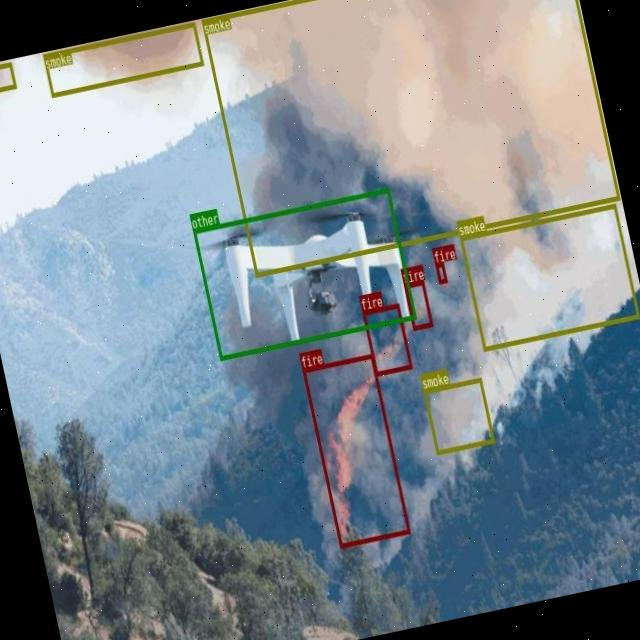fire: (302, 354, 409, 548), (362, 302, 412, 374), (403, 279, 433, 330), (435, 262, 447, 284)
smoke: (201, 0, 619, 275), (460, 203, 640, 351), (42, 22, 204, 97), (423, 377, 494, 454), (0, 62, 15, 98)
